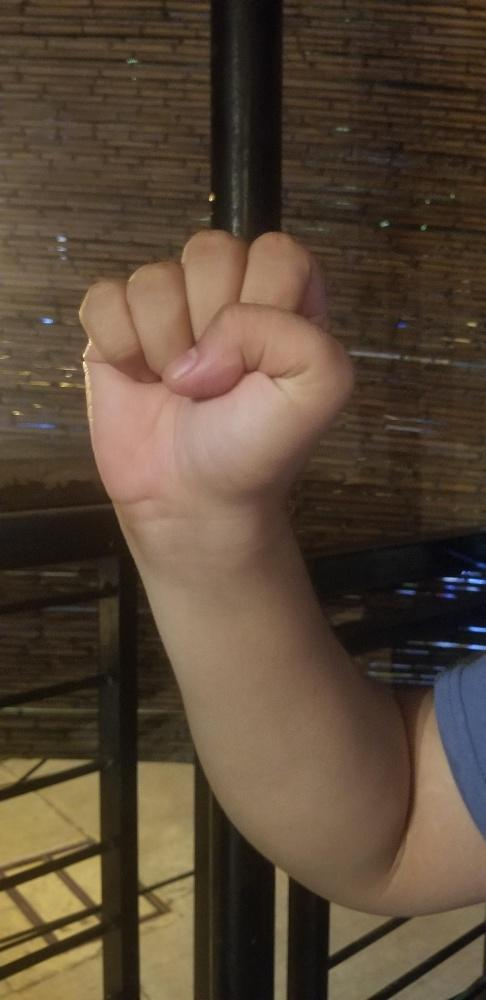s: (76, 226, 357, 490)
